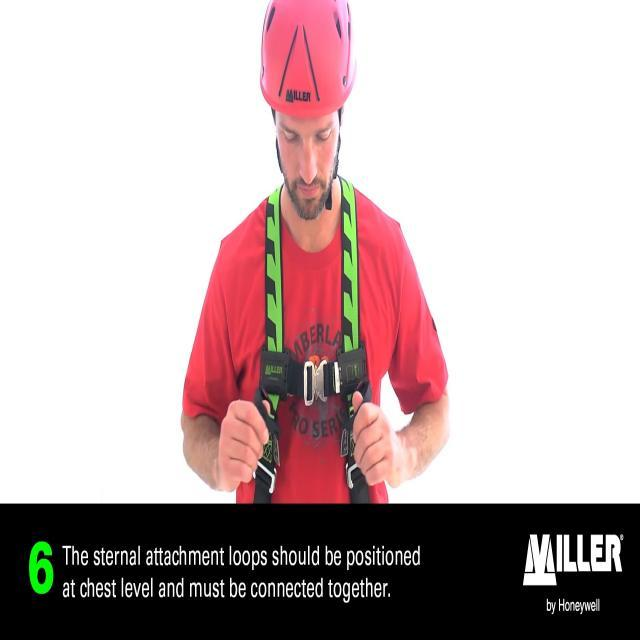belt: (248, 175, 378, 506)
